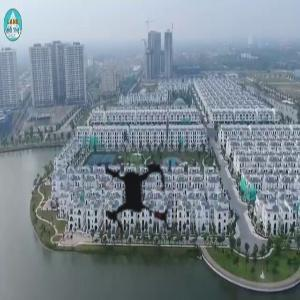drone: (45, 109, 222, 286)
